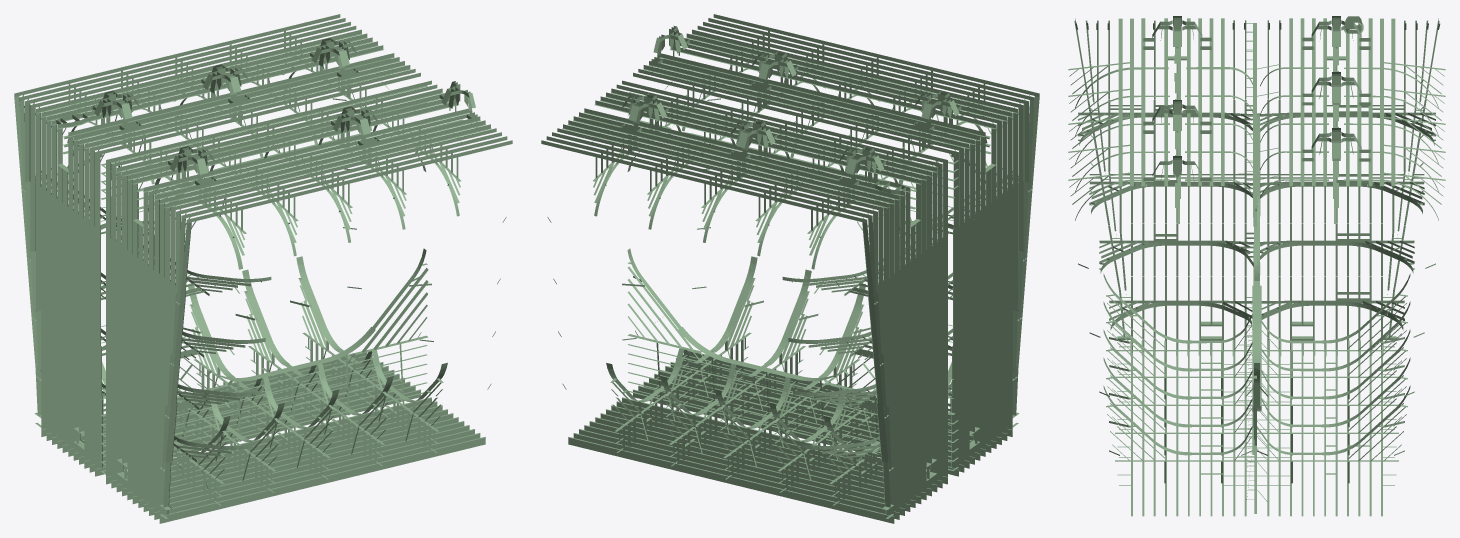
Rendered from NO_3_CENTRAL_CARGO_OIL_TK.glb.
The picture shows the model from 3 angles, left to right: view 1: azimuth 30°, elevation 25°; view 2: azimuth 150°, elevation 25°; view 3: azimuth 270°, elevation 25°; orthographic projection. The views are drawn at different scales.
Size of the model in its own units: 31.44 by 31.5 by 29.9.
